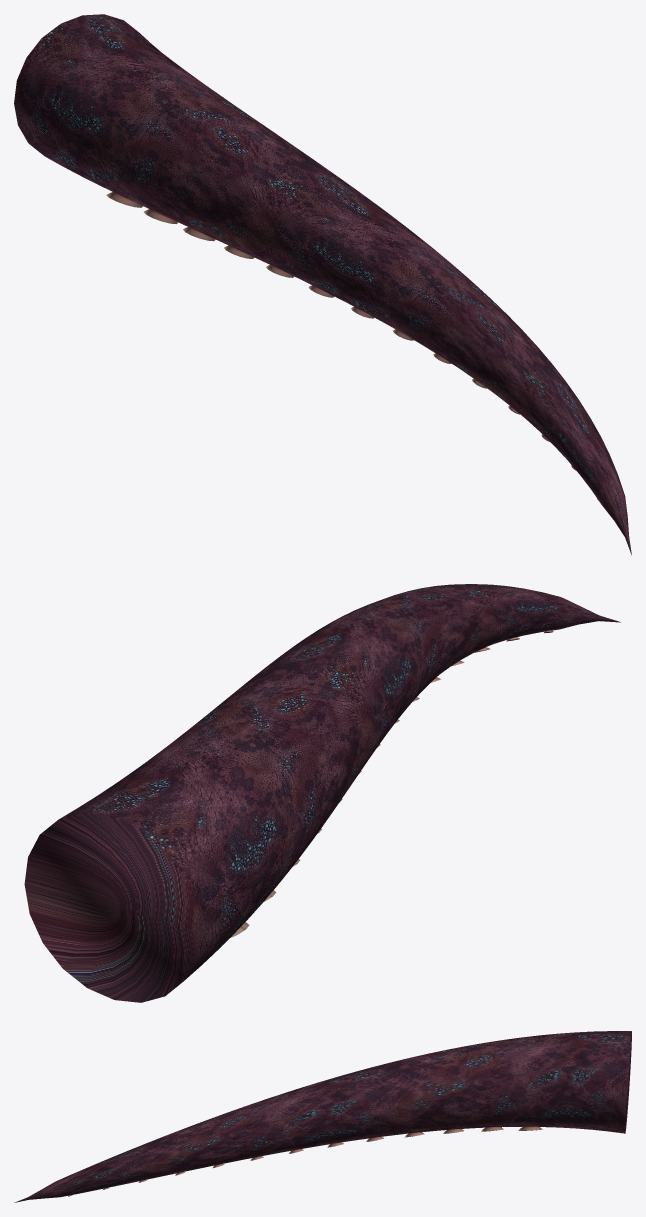
File: kraken_tentacle_variant_01.obj
3 renders of one model, top to bottom at view 1: azimuth 30°, elevation 25°; view 2: azimuth 150°, elevation 25°; view 3: azimuth 270°, elevation 25°, orthographic. The views are drawn at different scales.
Visible parts, largest first — view 1: Tentacle_Variant_01; view 2: Tentacle_Variant_01; view 3: Tentacle_Variant_01.
Boxes of the visible parts, x1=… form: Tentacle_Variant_01: x1=14, y1=14, x2=631, y2=555; Tentacle_Variant_01: x1=24, y1=584, x2=620, y2=1002; Tentacle_Variant_01: x1=14, y1=1031, x2=631, y2=1202.
Bounding box in the file's own units: 2.63 × 2.84 × 11.21.
Materials: 3 (3 with a texture image).
